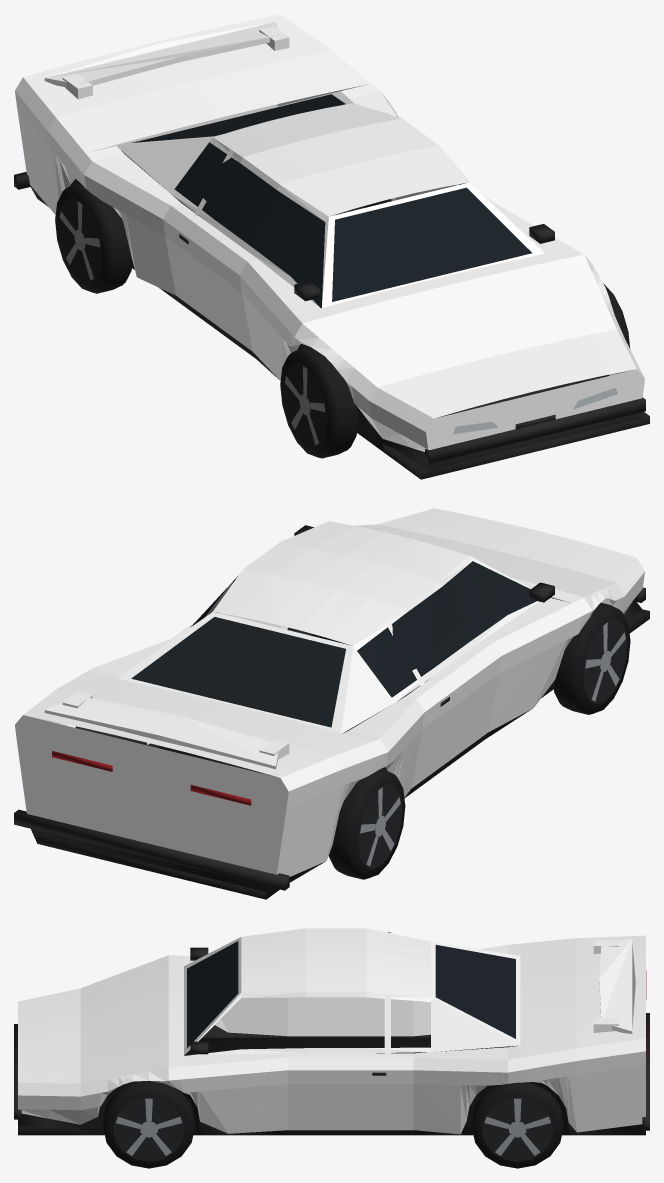
File: vantra_onix.glb
3 renders of one model, top to bottom at view 1: azimuth 30°, elevation 25°; view 2: azimuth 150°, elevation 25°; view 3: azimuth 270°, elevation 25°, orthographic. The views are drawn at different scales.
Parts seen in each view (by area): view 1: Body_Paint, Body_Details, Mount_FrontLeft_Wheel_Details, Mount_RearLeft_Wheel_Details; view 2: Body_Paint, Body_Details, Mount_RearLeft_Wheel_Details, Mount_FrontLeft_Wheel_Details; view 3: Body_Paint, Body_Details, Mount_FrontRight_Wheel_Details, Mount_RearRight_Wheel_Details.
Boxes of the visible parts, x1,y1,x2,y2 form: Body_Paint: (15, 14, 644, 451); Body_Details: (14, 94, 649, 479); Mount_FrontLeft_Wheel_Details: (280, 346, 358, 458); Mount_RearLeft_Wheel_Details: (55, 182, 132, 293); Body_Paint: (15, 508, 644, 876); Body_Details: (14, 525, 649, 899); Mount_RearLeft_Wheel_Details: (328, 769, 405, 879); Mount_FrontLeft_Wheel_Details: (553, 603, 630, 714); Body_Paint: (18, 928, 645, 1134); Body_Details: (14, 941, 649, 1135); Mount_FrontRight_Wheel_Details: (103, 1081, 194, 1168); Mount_RearRight_Wheel_Details: (471, 1082, 563, 1168).
Size of the model in its own units: 2.06 by 1.21 by 4.55.
2 materials, 1 textured.
